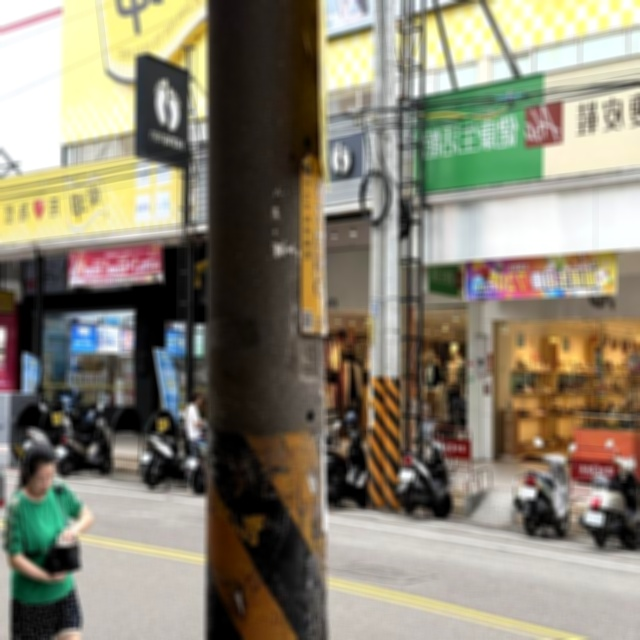Sin_Casco_Mascarrilla: (23, 440, 56, 497), (191, 388, 201, 404)
